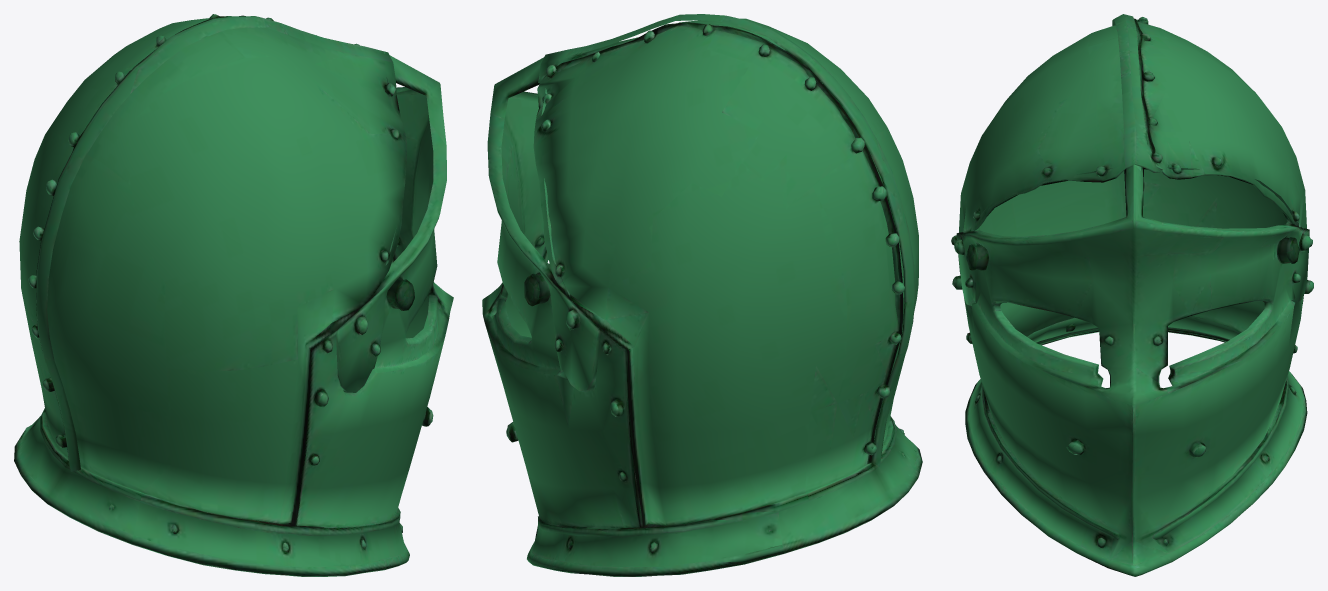
The model's file is adamant_full_helm.glb.
3 renders of one model, left to right at view 1: azimuth 30°, elevation 25°; view 2: azimuth 150°, elevation 25°; view 3: azimuth 270°, elevation 25°, orthographic. The views are drawn at different scales.
Parts seen in each view (by area): view 1: tripo_node_af3596da-f39c-445c-85cb-942779934b46; view 2: tripo_node_af3596da-f39c-445c-85cb-942779934b46; view 3: tripo_node_af3596da-f39c-445c-85cb-942779934b46.
Boxes of the visible parts, x1,y1,x2,y2 form: tripo_node_af3596da-f39c-445c-85cb-942779934b46: (14, 14, 453, 576); tripo_node_af3596da-f39c-445c-85cb-942779934b46: (482, 14, 922, 576); tripo_node_af3596da-f39c-445c-85cb-942779934b46: (951, 14, 1313, 576).
Bounding box in the file's own units: 0.5331 × 0.6863 × 0.4761.
Materials: 1 (1 with a texture image).
